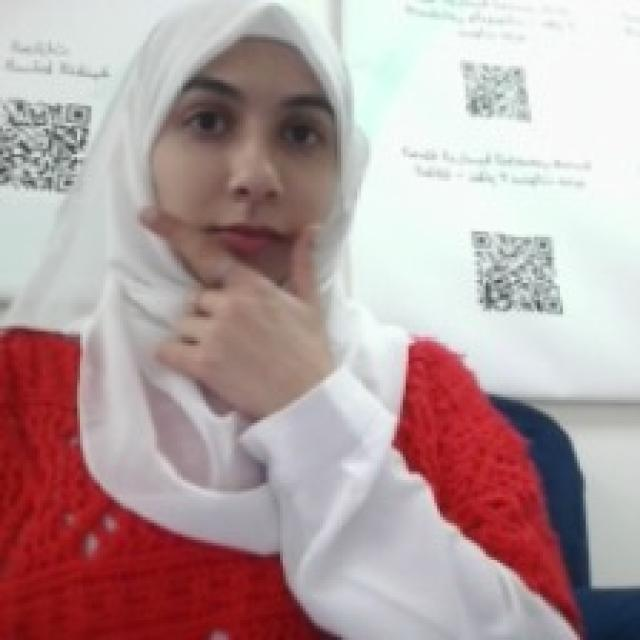smile: (129, 192, 334, 368)
